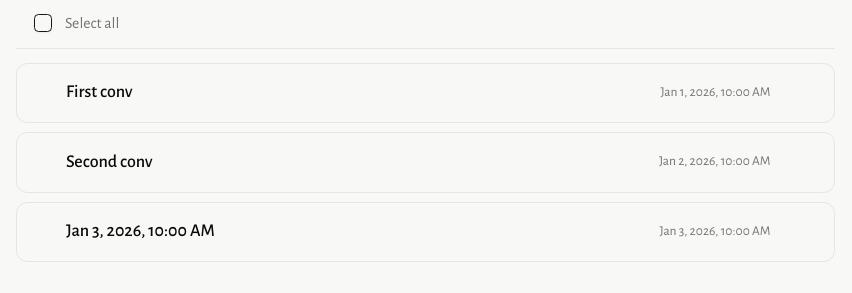
Test: ConversationList › should select all when select-all checkbox is clicked
Step 1. Click the checkbox named "select all" → (42, 23), box [34,14,52,32]
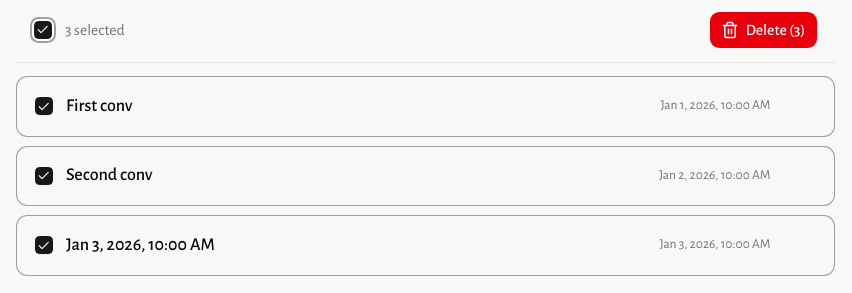
Expected: the text "3 selected" is shown, [65,19,125,41]
